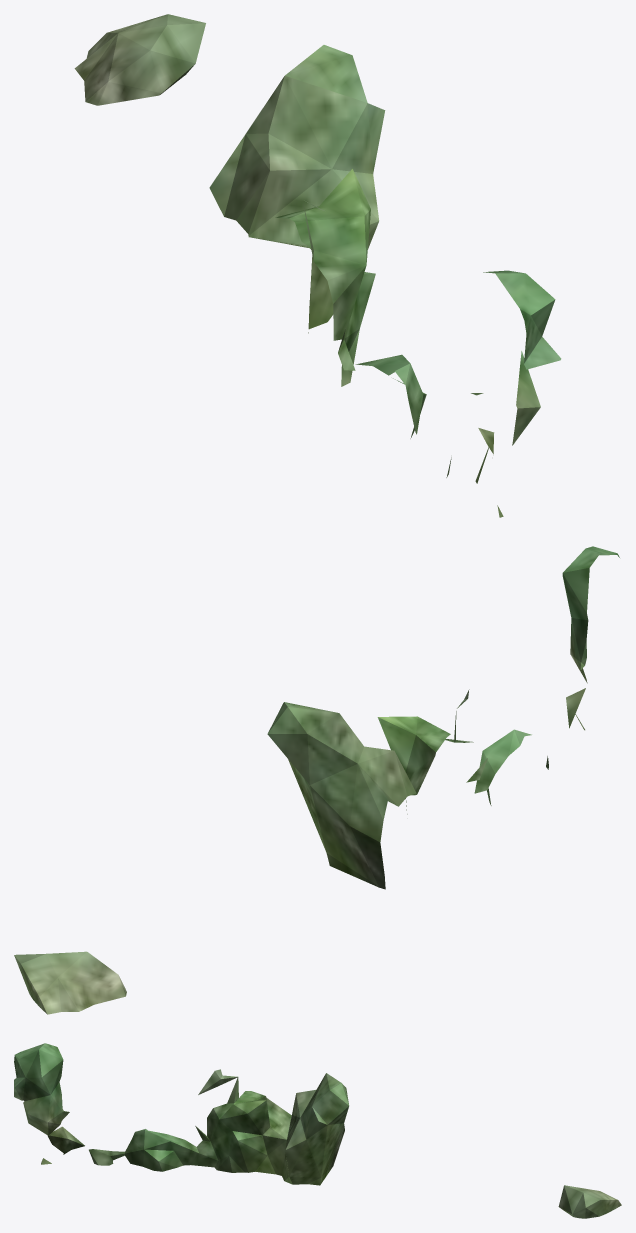
3 views of the same model, one above another, from view 1: azimuth 30°, elevation 25°; view 2: azimuth 150°, elevation 25°; view 3: azimuth 270°, elevation 25° (orthographic). The views are drawn at different scales.
Size of the model in its own units: 1.12 by 1.03 by 4.71.
Materials: 1 (1 with a texture image).
